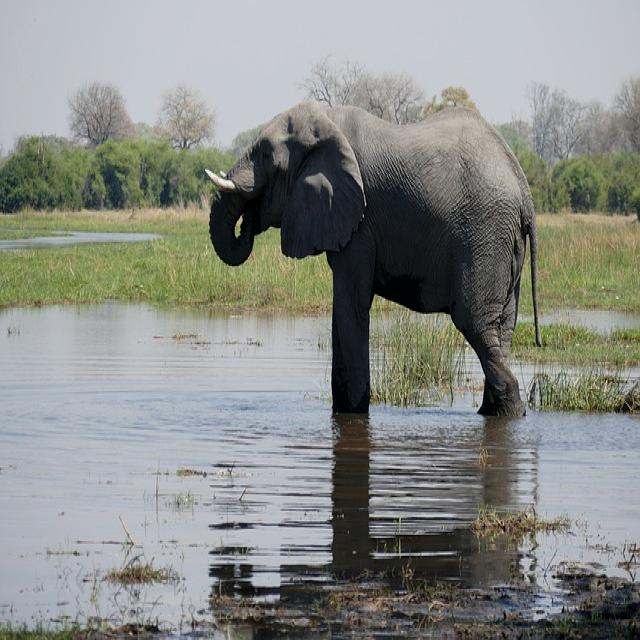FIL: (203, 91, 542, 429)
